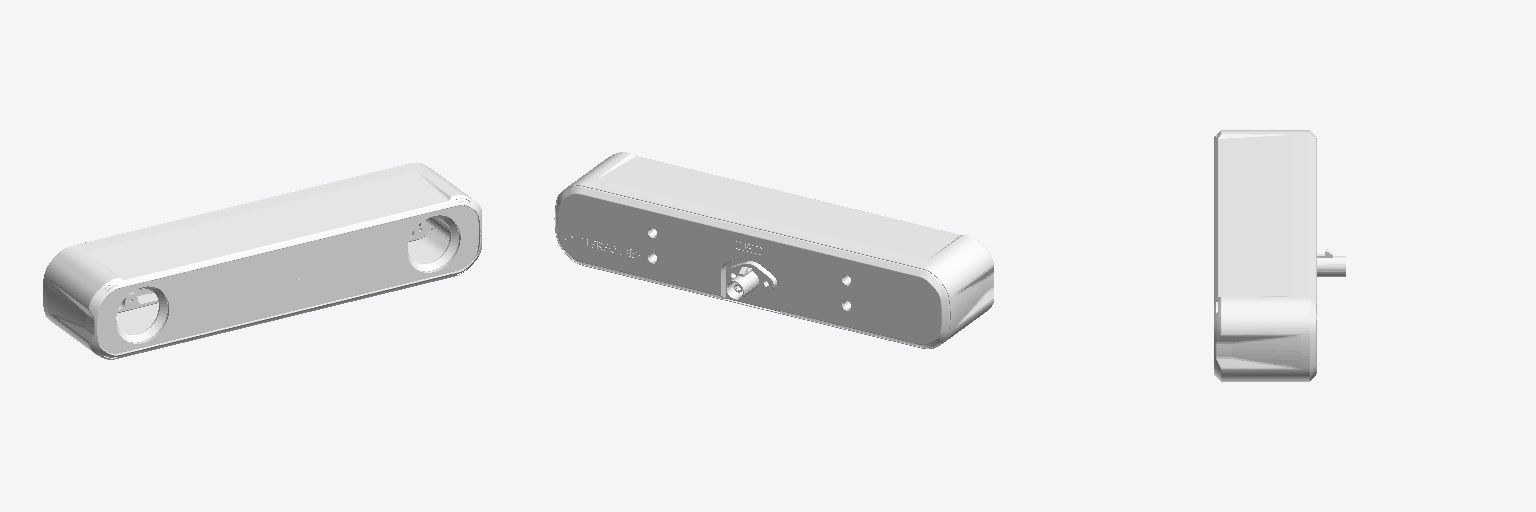
Rendered from base_link_ZED_X_base_link_ZED_X_ZED_X.obj.
The picture shows the model from 3 angles: view 1: azimuth 30°, elevation 25°; view 2: azimuth 150°, elevation 25°; view 3: azimuth 270°, elevation 25°; orthographic projection.
Bounding box in the file's own units: 0.1636 × 0.0318 × 0.0472.